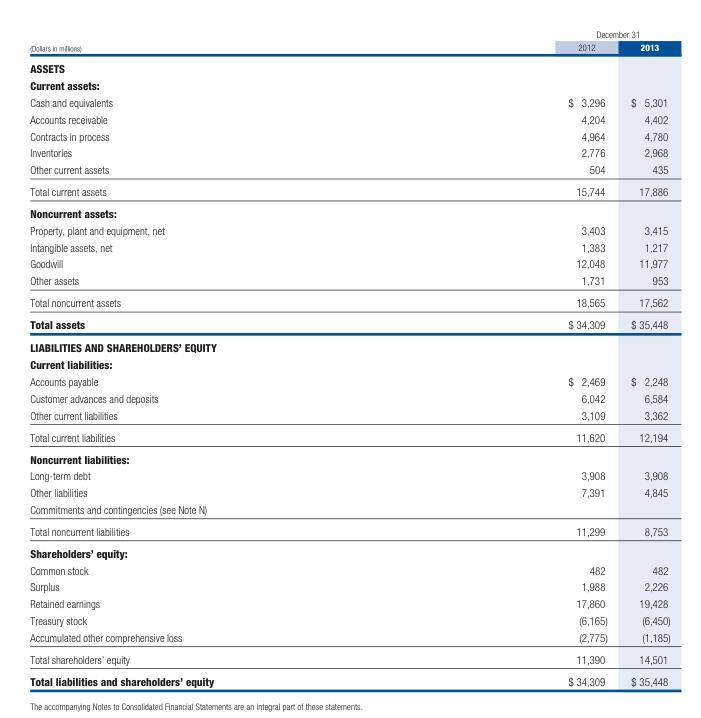table: (29, 29, 669, 687)
table column: (29, 29, 390, 687), (390, 29, 618, 687), (618, 29, 669, 687)
table column header: (29, 29, 669, 57)
table projected row header: (29, 201, 669, 221), (29, 335, 669, 355), (29, 447, 669, 467), (29, 541, 669, 561), (29, 57, 669, 76), (29, 500, 669, 519), (29, 76, 669, 93), (29, 355, 669, 372)
table row: (29, 312, 669, 335), (29, 425, 669, 447), (29, 519, 669, 541), (29, 647, 669, 669), (29, 180, 669, 201), (29, 291, 669, 312), (29, 160, 669, 180), (29, 201, 669, 221), (29, 271, 669, 291), (29, 335, 669, 355), (29, 447, 669, 467), (29, 541, 669, 561), (29, 57, 669, 76), (29, 406, 669, 425), (29, 500, 669, 519), (29, 628, 669, 647), (29, 669, 669, 687), (29, 40, 669, 57), (29, 76, 669, 93), (29, 93, 669, 110), (29, 110, 669, 127), (29, 143, 669, 160), (29, 221, 669, 238), (29, 238, 669, 255), (29, 355, 669, 372), (29, 372, 669, 389), (29, 389, 669, 406), (29, 483, 669, 500), (29, 561, 669, 578), (29, 594, 669, 611), (29, 611, 669, 628), (29, 127, 669, 143), (29, 255, 669, 271), (29, 467, 669, 483), (29, 578, 669, 594), (29, 29, 669, 40)
table spanning cell: (29, 29, 390, 57), (390, 29, 669, 40)
